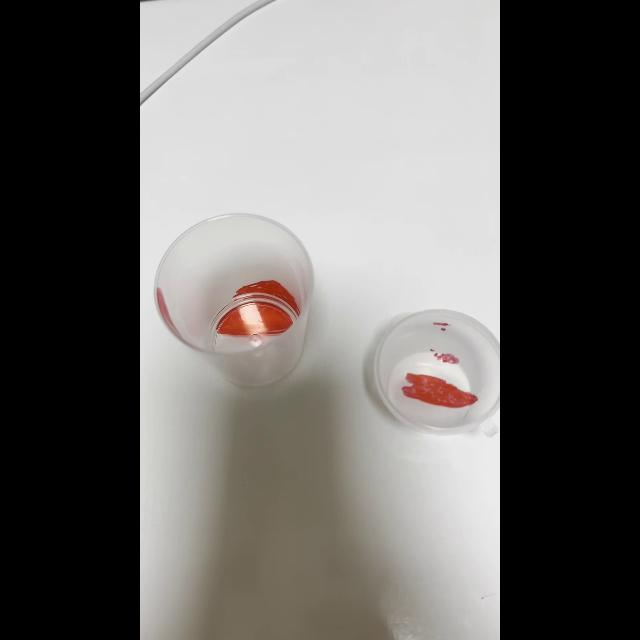dirty: (154, 215, 314, 387), (370, 311, 500, 434)
